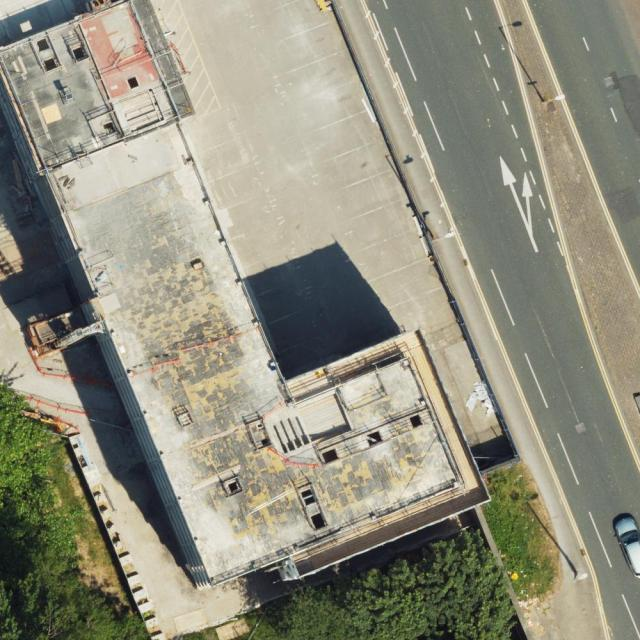roof: (3, 0, 465, 589)
